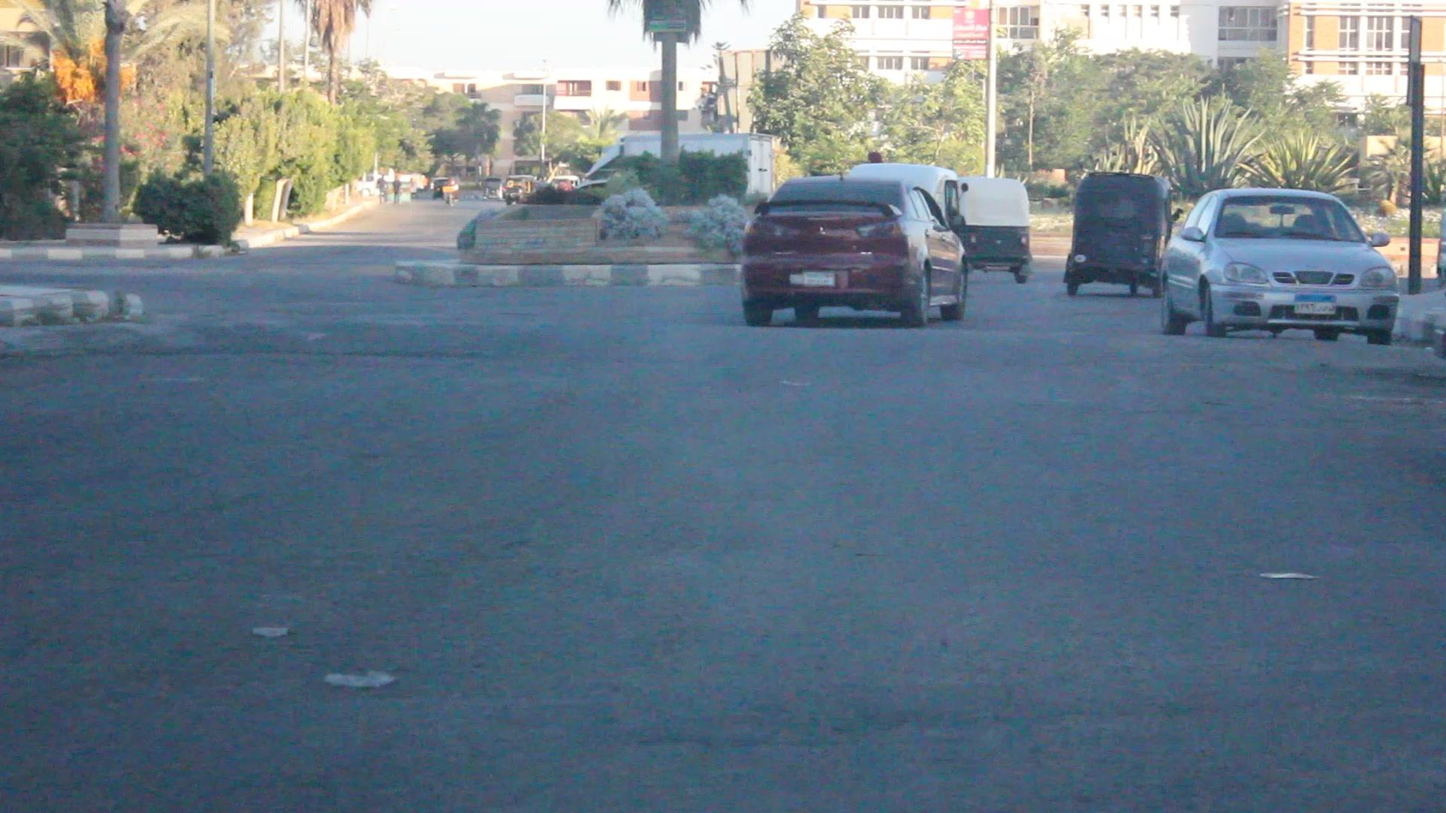Bump: (30, 307, 1446, 393)
